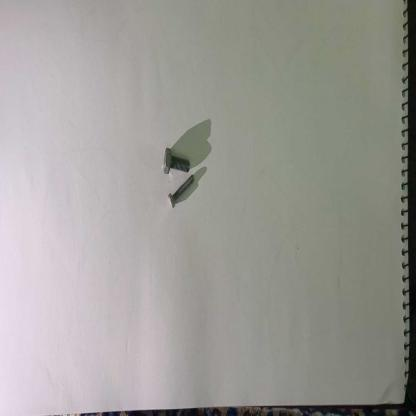Bolts: (164, 174, 200, 212), (160, 145, 192, 178)
